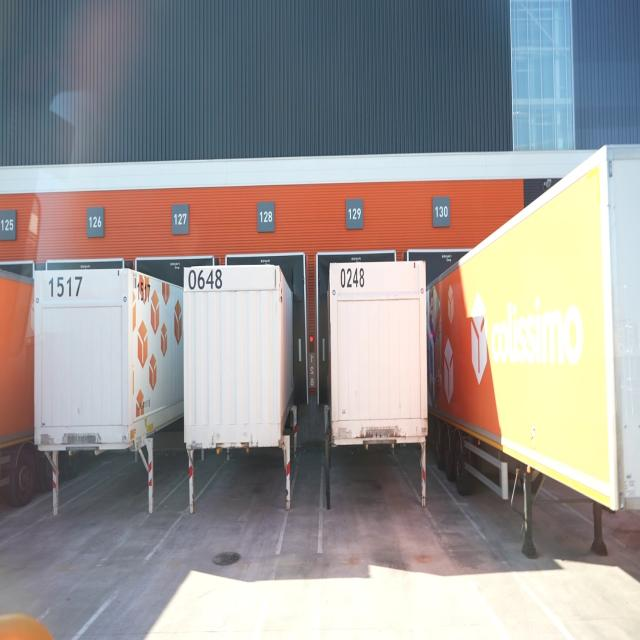Code: (184, 266, 225, 296), (45, 272, 86, 300), (338, 266, 367, 290), (132, 274, 152, 306)
